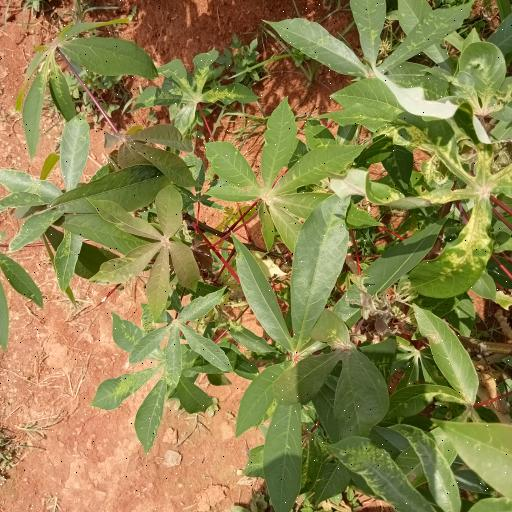Cassava_Healthy: (228, 196, 414, 501), (267, 2, 510, 129), (204, 101, 354, 247)
